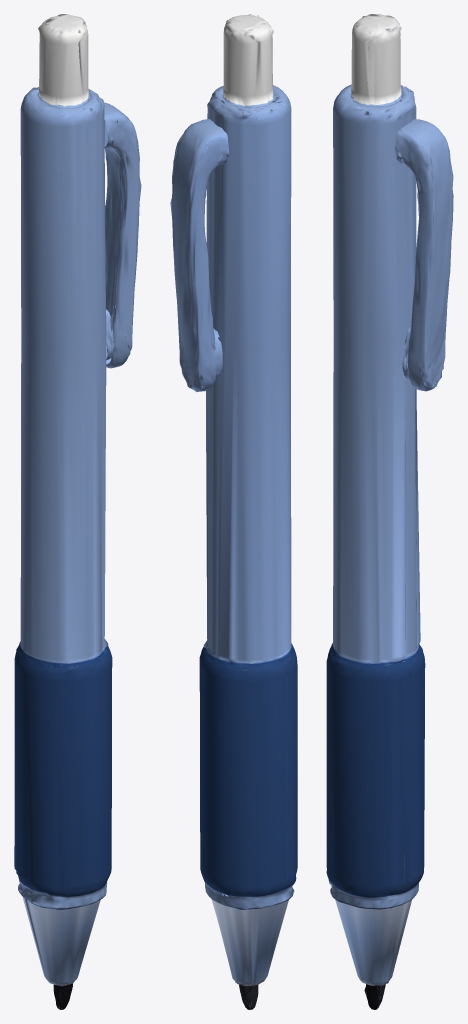
The model's file is Meshy_AI_Blue_Retractable_Pen_20261028_texture.fbx.
3 views of the same model, side by side, from view 1: azimuth 30°, elevation 25°; view 2: azimuth 210°, elevation 25°; view 3: azimuth 330°, elevation 25° (orthographic).
Visible parts, largest first — view 1: Mesh_0; view 2: Mesh_0; view 3: Mesh_0.
Part boxes in pixels (x1=…): Mesh_0: x1=14, y1=14, x2=141, y2=1009; Mesh_0: x1=170, y1=14, x2=297, y2=1009; Mesh_0: x1=326, y1=14, x2=453, y2=1009.
Size of the model in its own units: 11.18 by 95.02 by 8.55.
1 material, 1 textured.
